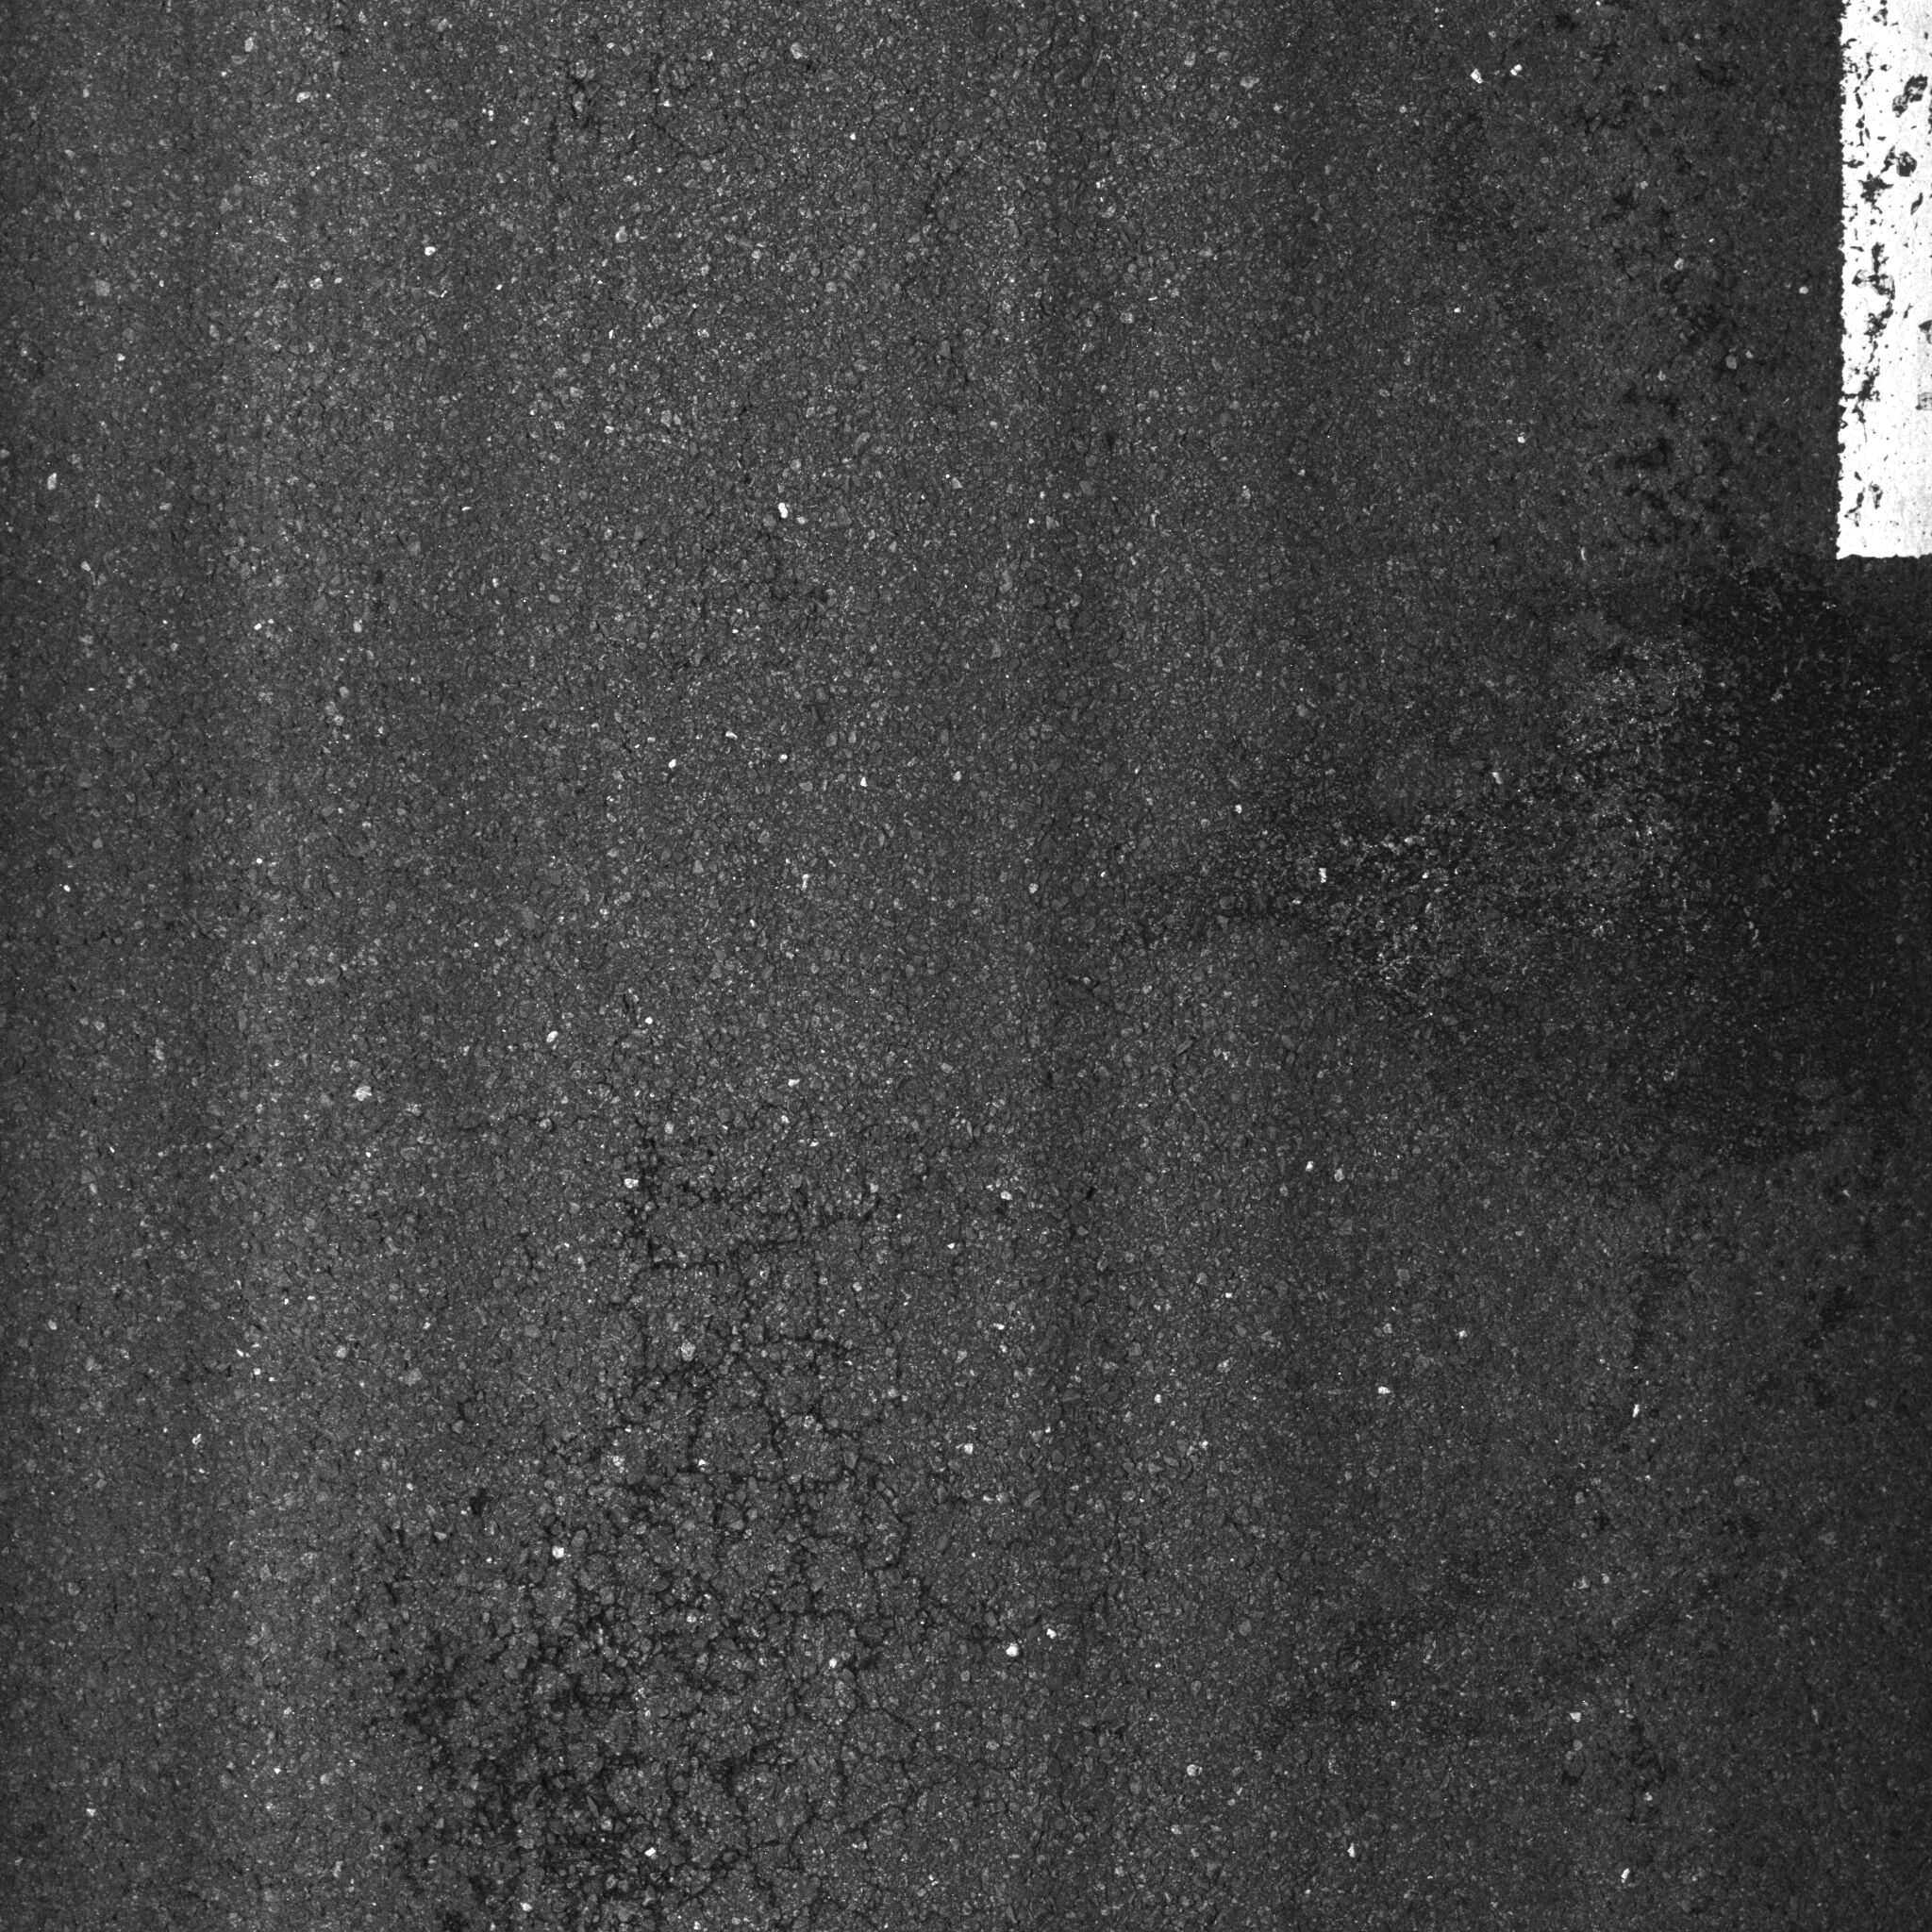alligator: (274, 1042, 1304, 1932)
